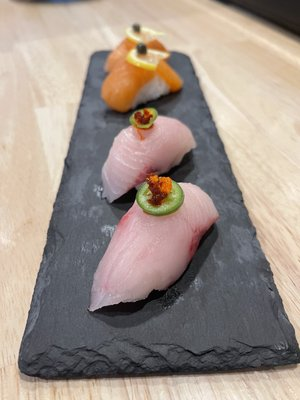steak: (89, 175, 221, 311), (101, 107, 197, 205), (136, 174, 184, 216)
